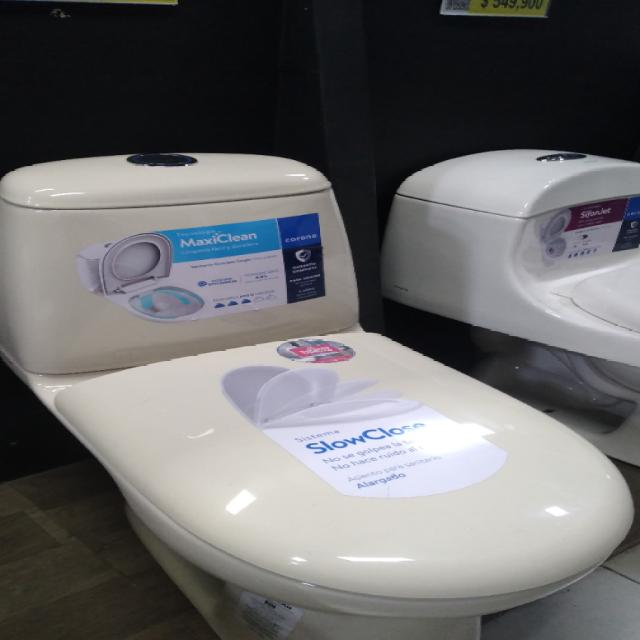toilet: (0, 150, 635, 639)
